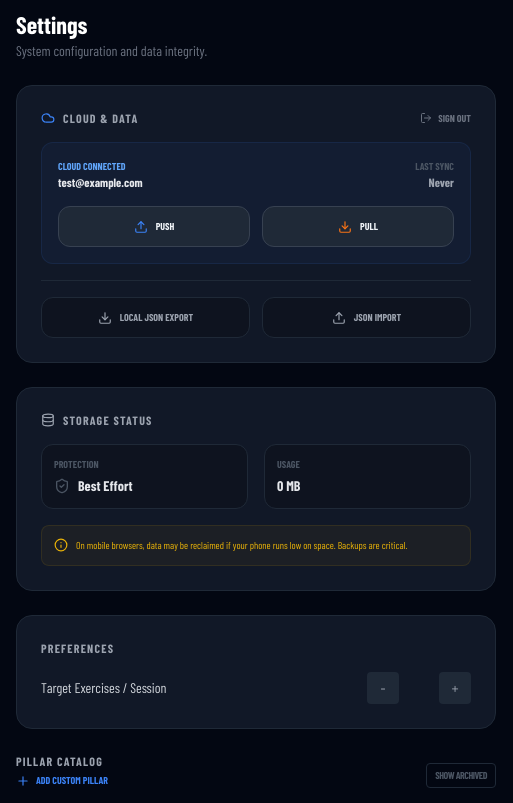
Test: Settings Component › shows success message after successful push
Click the button "Push" at [154, 226], box left=58, top=206, right=250, bottom=247
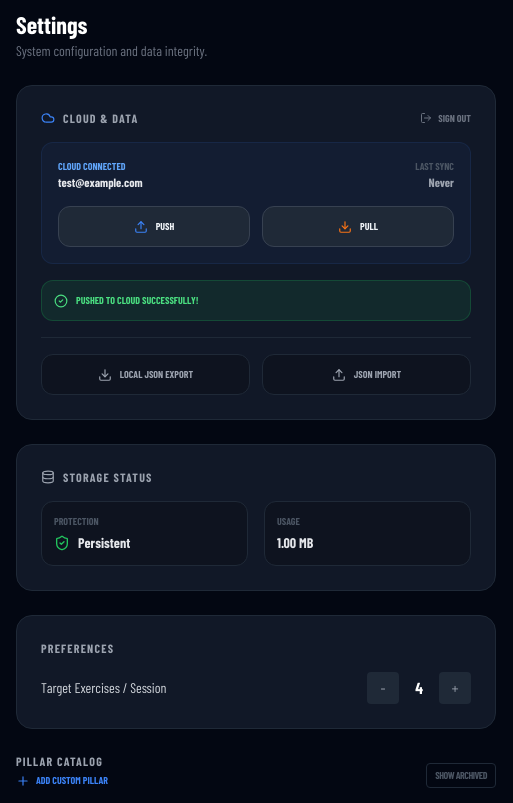
Now the text "Pushed to cloud successfully!" is shown, box left=76, top=293, right=198, bottom=308
